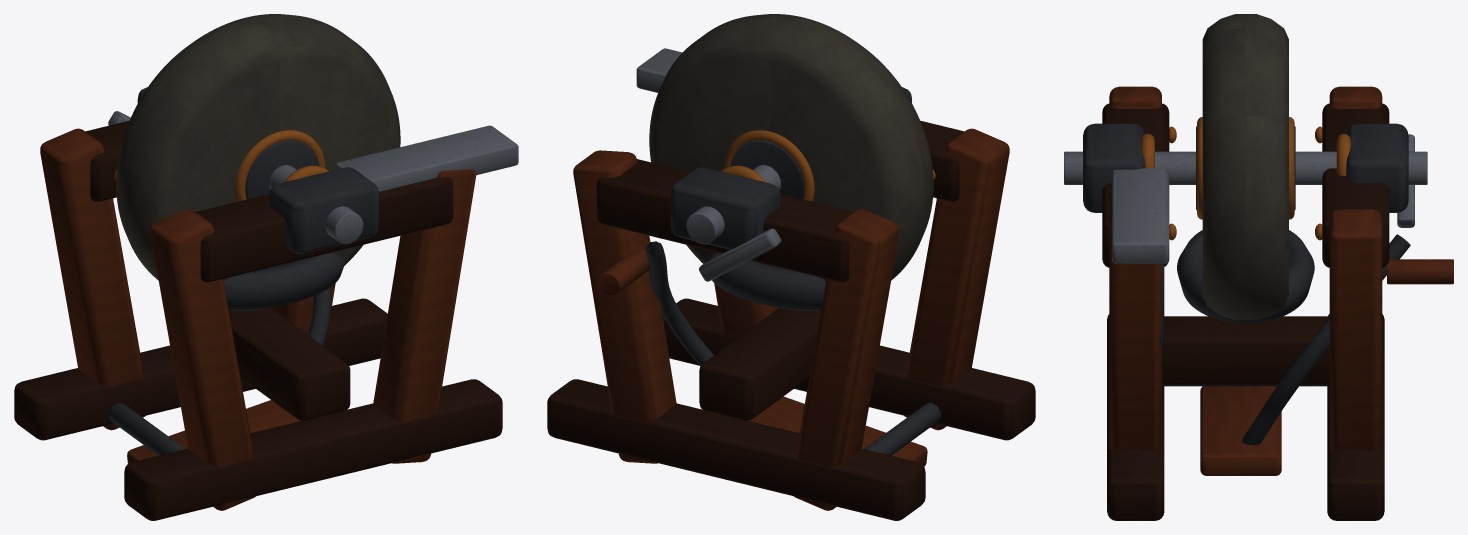
File: grinder.glb
The picture shows the model from 3 angles, left to right: view 1: azimuth 30°, elevation 25°; view 2: azimuth 150°, elevation 25°; view 3: azimuth 270°, elevation 25°; orthographic projection.
Parts seen in each view (by area): view 1: grinder; view 2: grinder; view 3: grinder.
Boxes of the visible parts, x1,y1,x2,y2 form: grinder: (14, 14, 518, 520); grinder: (547, 14, 1035, 520); grinder: (1064, 14, 1453, 520).
Bounding box in the file's own units: 1.8 × 1.99 × 1.63.
Materials: 6 (6 with a texture image).
